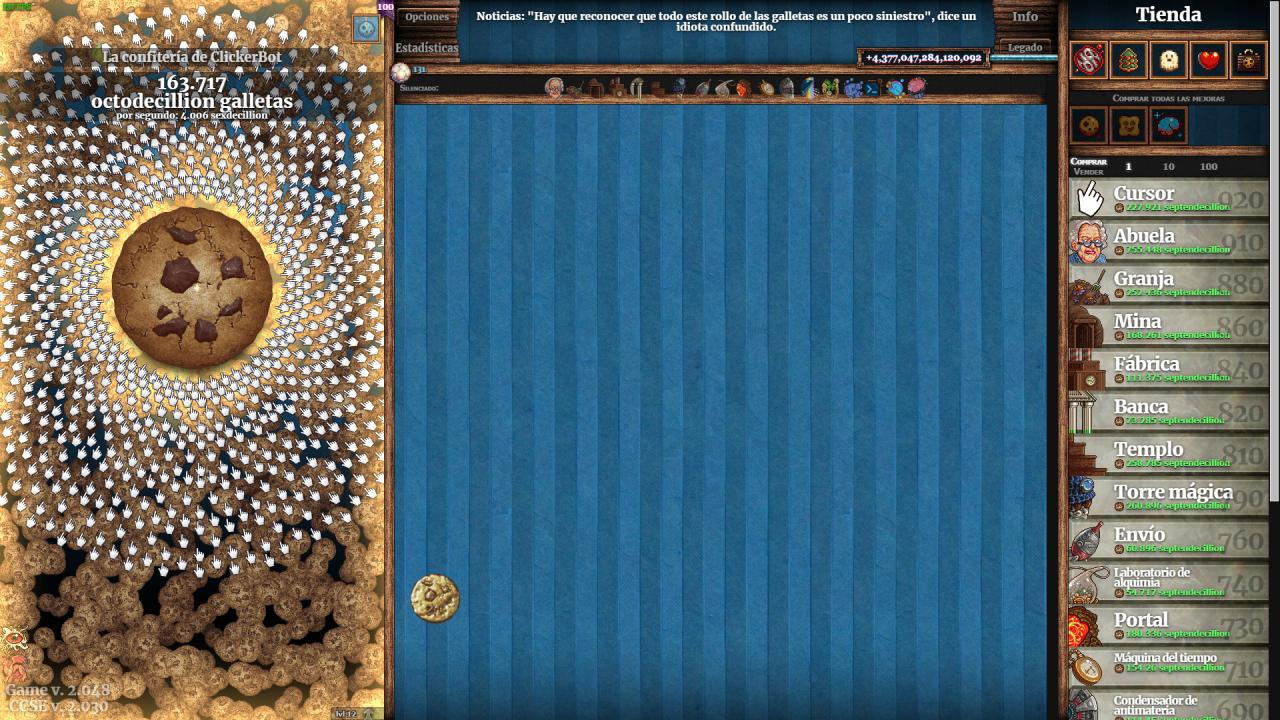GoldenCookie: (409, 573, 463, 625)
